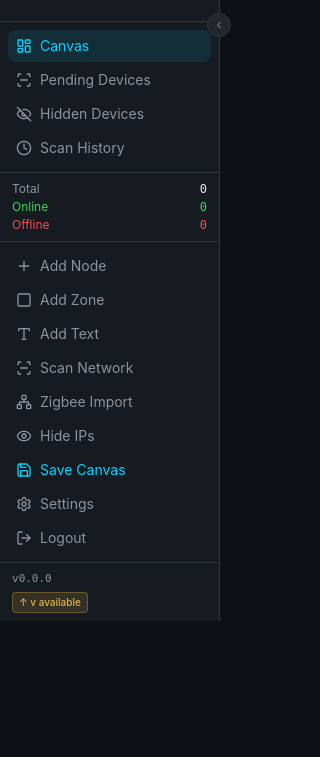
Test: Sidebar › toggles Settings panel on Settings click
The image size is (320, 757).
Click the button "Settings": (110, 504) [8,488,211,520]
(page scrolled)
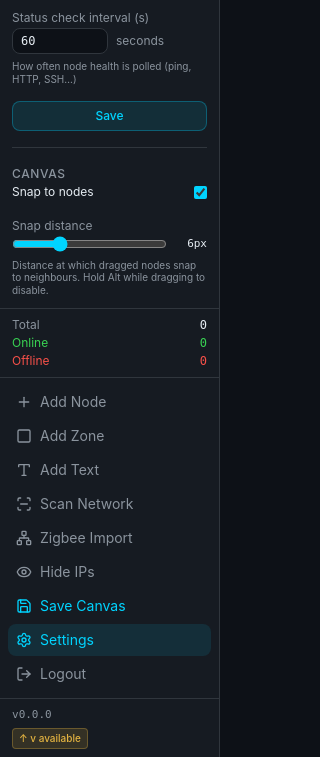
Now the text "Status check interval (s)" is shown, box [12,10,149,25]
Click the button "Settings": (110, 640) [8,624,211,656]
(page scrolled)
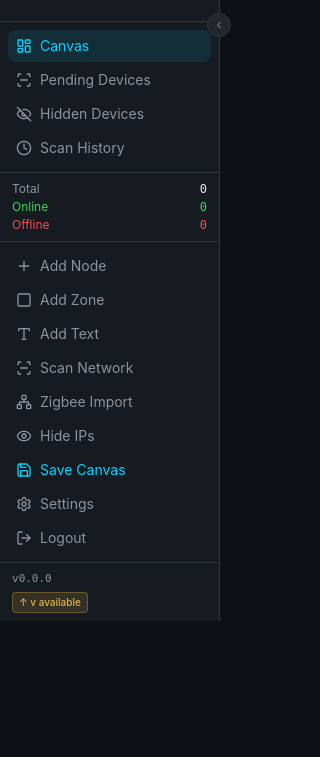
Now the text "Status check interval (s)" is gone
